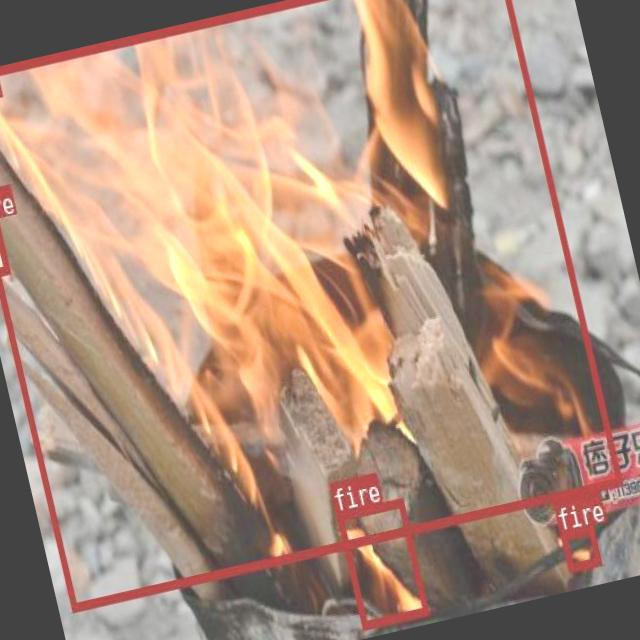fire: (0, 0, 622, 611), (334, 496, 428, 628), (558, 524, 600, 570), (0, 217, 9, 278)
